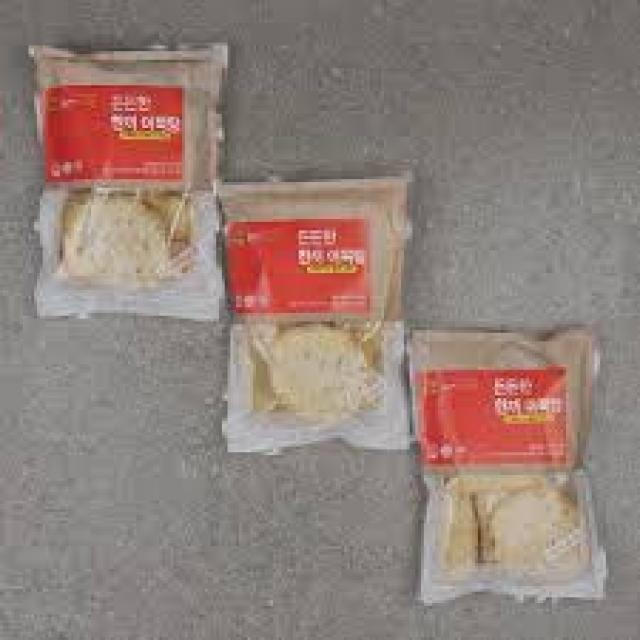fish_cake: (216, 182, 401, 444)
